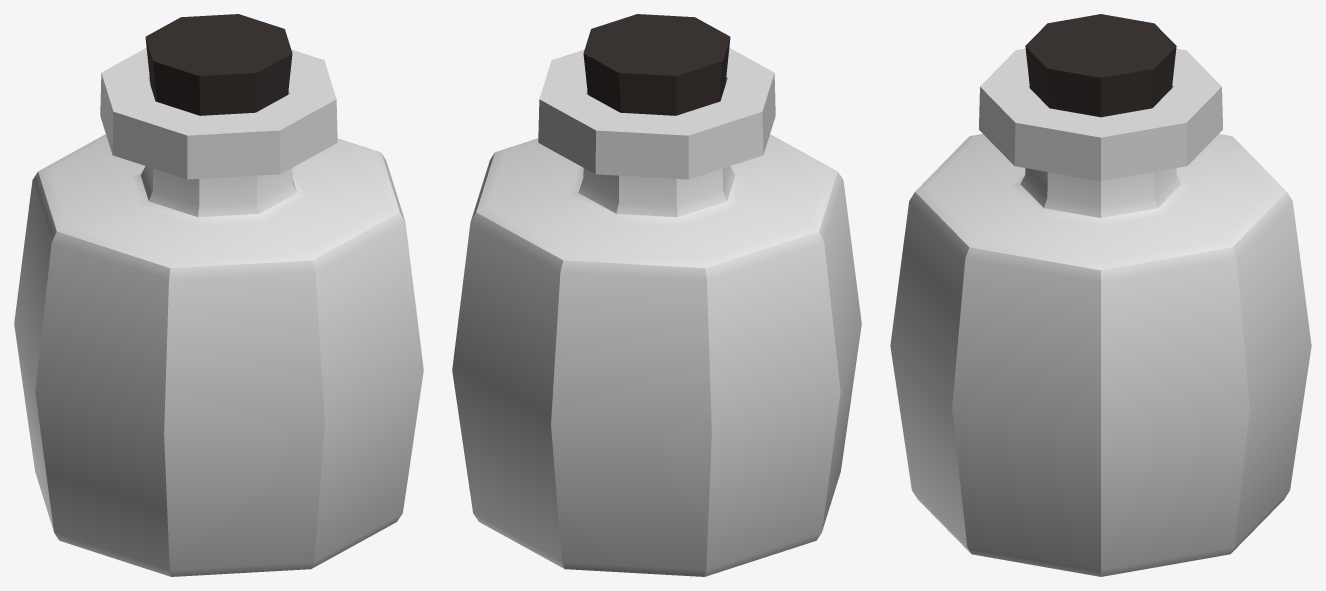
Rendered from dye-bottle-3.fbx.
3 views of the same model, side by side, from view 1: azimuth 30°, elevation 25°; view 2: azimuth 150°, elevation 25°; view 3: azimuth 270°, elevation 25° (orthographic).
Visible parts, largest first — view 1: dye-bottle-3; view 2: dye-bottle-3; view 3: dye-bottle-3.
Boxes of the visible parts, x1,y1,x2,y2 form: dye-bottle-3: [14, 14, 423, 576]; dye-bottle-3: [452, 14, 861, 576]; dye-bottle-3: [890, 14, 1311, 576].
Size of the model in its own units: 10.92 by 13.08 by 10.92.
3 materials, 1 textured.
